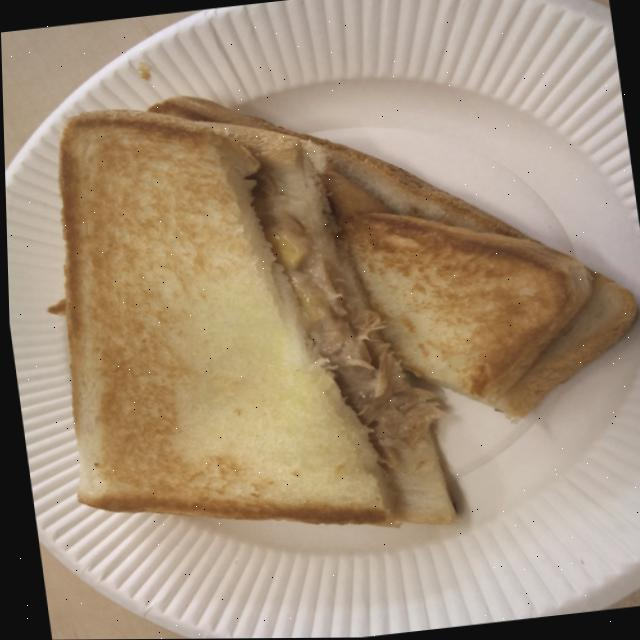三明治: (0, 0, 631, 400)
